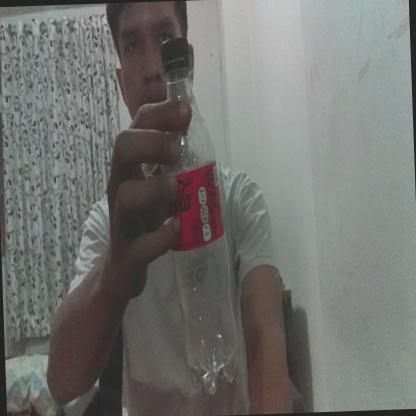plastic_bottles: (155, 29, 240, 398)
